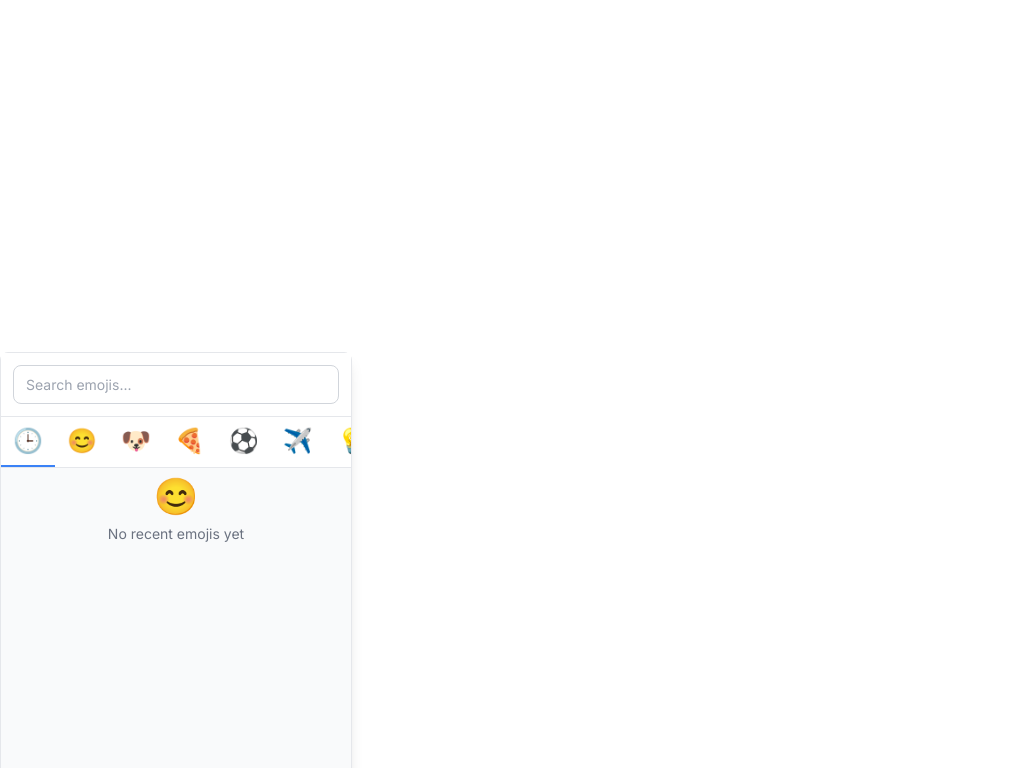
Scenario: EmojiPicker › Search Functionality › should perform search when typing in search input
(page scrolled)
In the search field labelled "Search emojis": point(176, 384) x1=13 y1=365 x2=339 y2=404, type "smile"
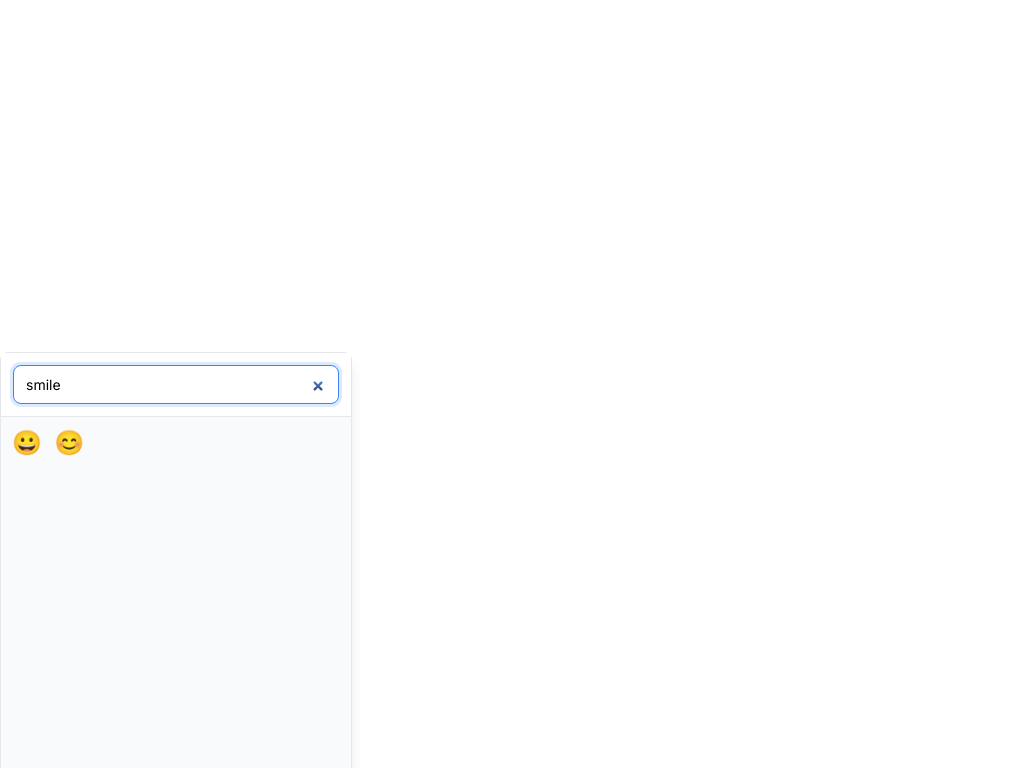
Expected: the option named "Grinning Face" is shown, x1=9 y1=425 x2=45 y2=461
